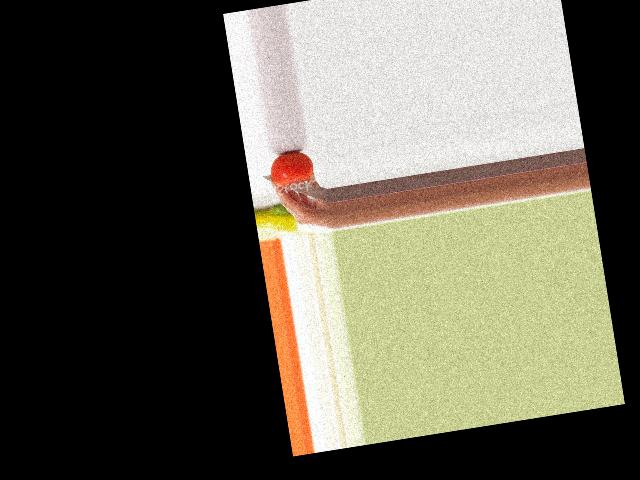tomato: (267, 148, 316, 188)
